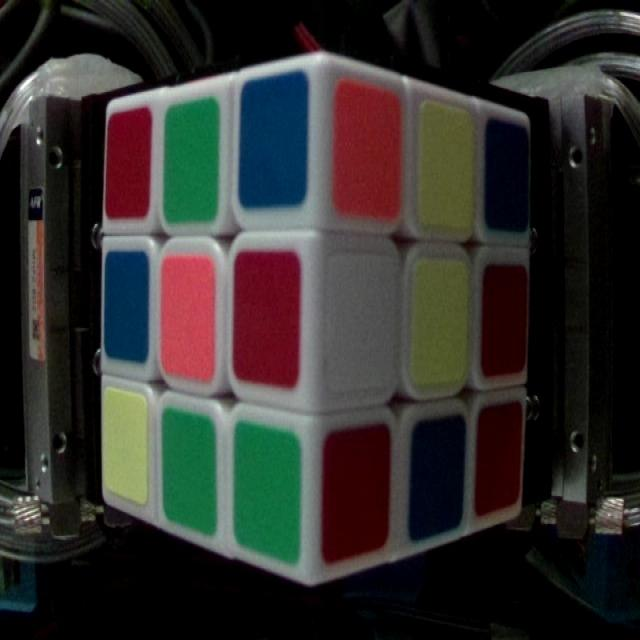b: (243, 80, 308, 202), (410, 416, 465, 529), (487, 119, 527, 226), (106, 255, 146, 353)
g: (234, 425, 306, 562), (162, 100, 219, 220), (162, 412, 215, 536)
o: (334, 79, 399, 218), (160, 259, 212, 373)
r: (235, 250, 298, 381), (322, 426, 388, 550), (105, 109, 150, 215), (486, 266, 529, 371), (479, 406, 521, 511)
w: (327, 256, 397, 382)
y: (414, 104, 476, 228), (414, 261, 466, 381), (102, 388, 146, 495)
